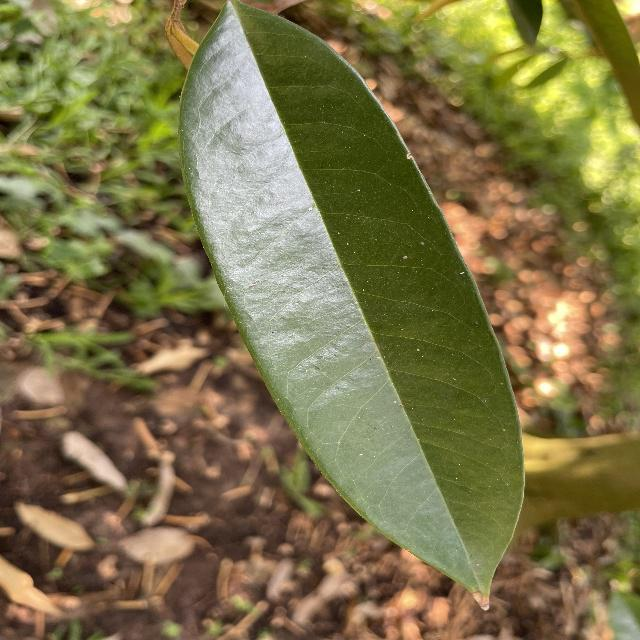No Disease: (171, 0, 530, 612)
